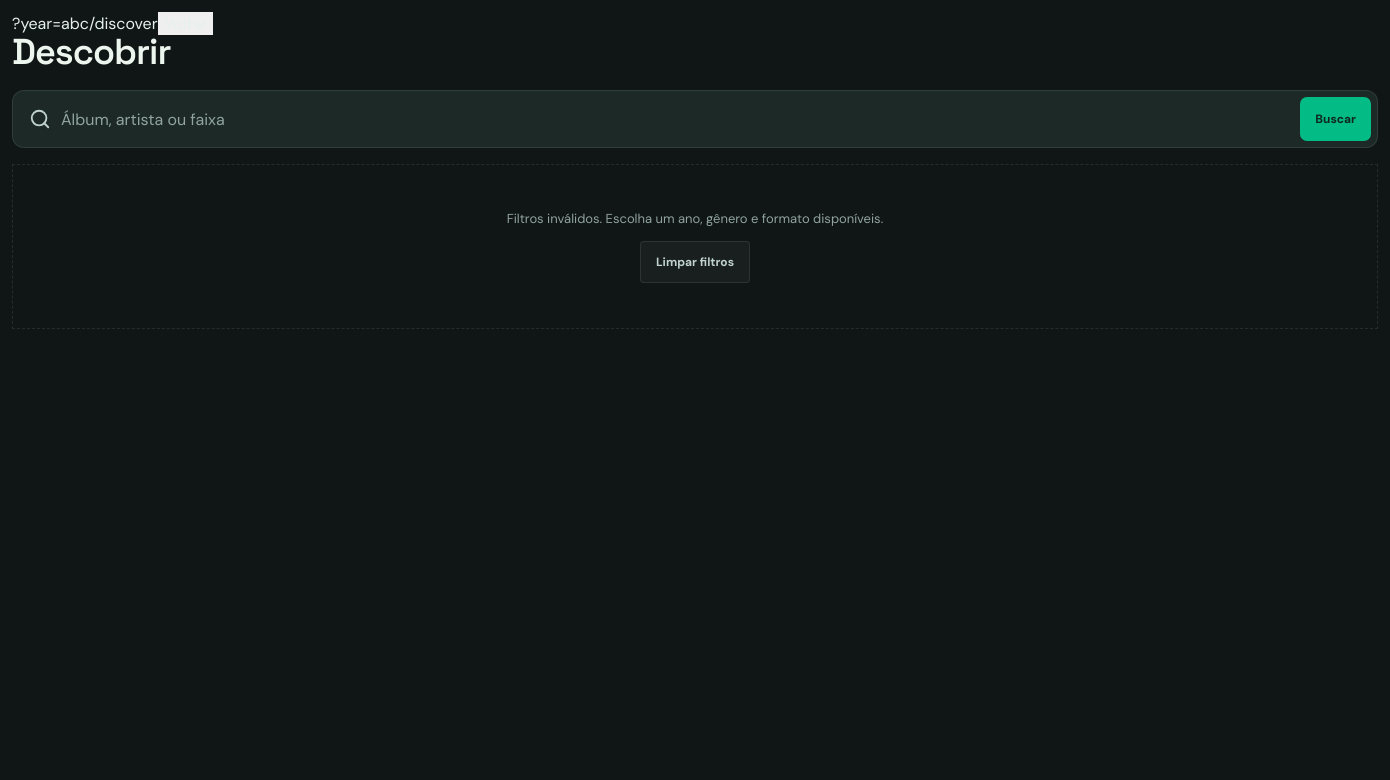
Test: DiscoverPage › explains invalid URL filters and allows recovery
This screenshot has width=1390, height=780.
expect the message shows "Filtros inválidos": met, box [507, 210, 883, 227]
Step 1. Click the button "Limpar filtros" → x=695, y=262, box [640, 241, 750, 283]
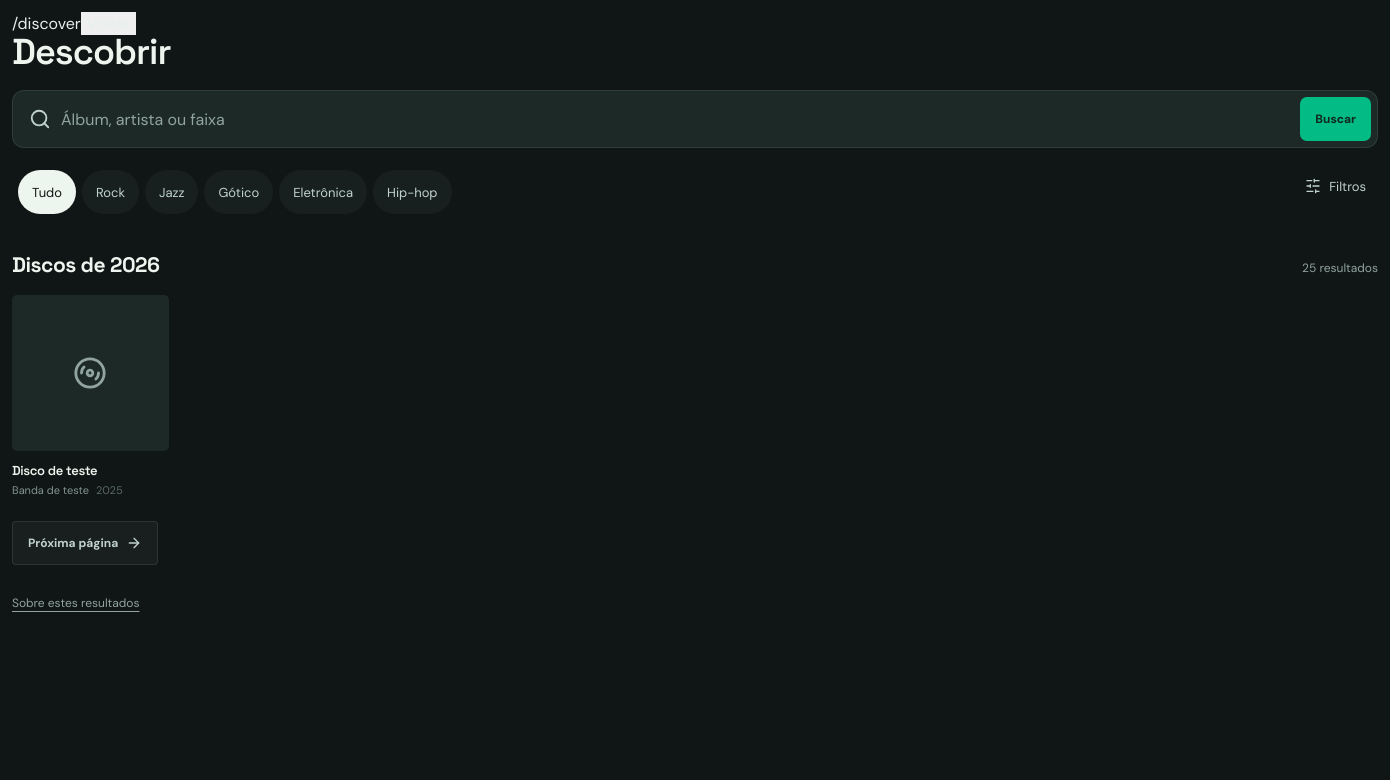
expect the heading "Disco de teste" is shown: met, box [12, 462, 97, 479]
